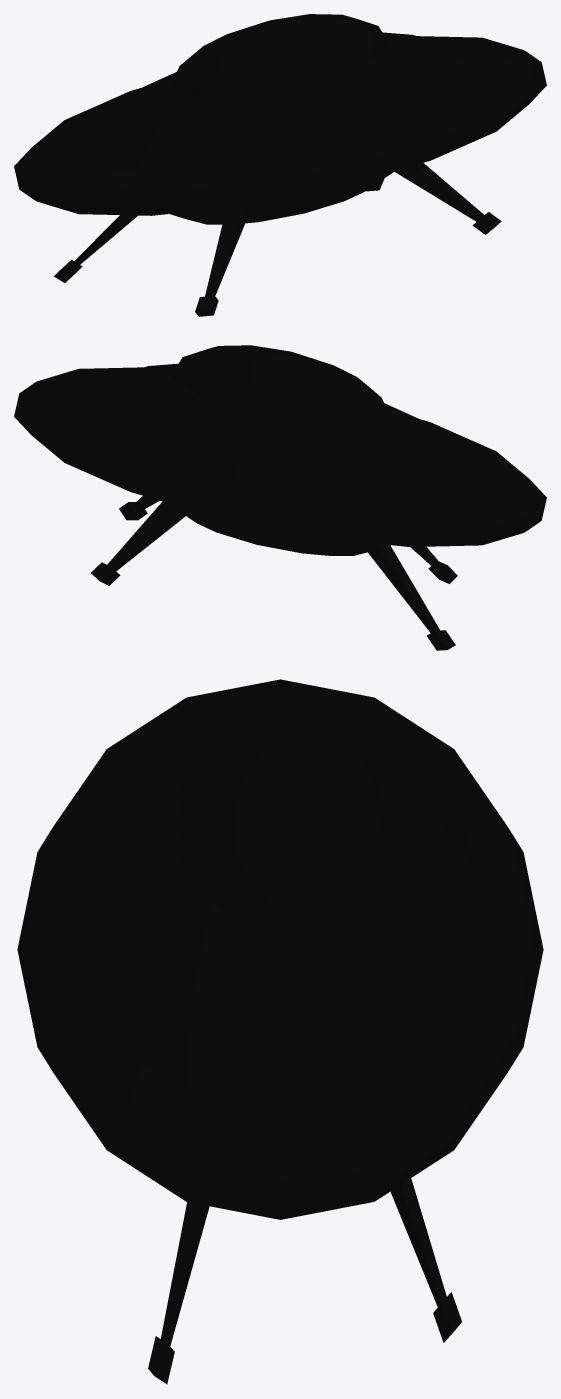
3 renders of one model, top to bottom at view 1: azimuth 30°, elevation 25°; view 2: azimuth 150°, elevation 25°; view 3: azimuth 270°, elevation 25°, orthographic. The views are drawn at different scales.
Parts seen in each view (by area): view 1: Mesh.120; view 2: Mesh.120; view 3: Mesh.120.
Part boxes in pixels (x1=…): Mesh.120: x1=14, y1=14, x2=546, y2=316; Mesh.120: x1=14, y1=345, x2=546, y2=650; Mesh.120: x1=17, y1=679, x2=543, y2=1384.
Size of what is drawn, in the model's own units: 5.28 by 2.22 by 2.3.
Materials: 1 (1 with a texture image).
